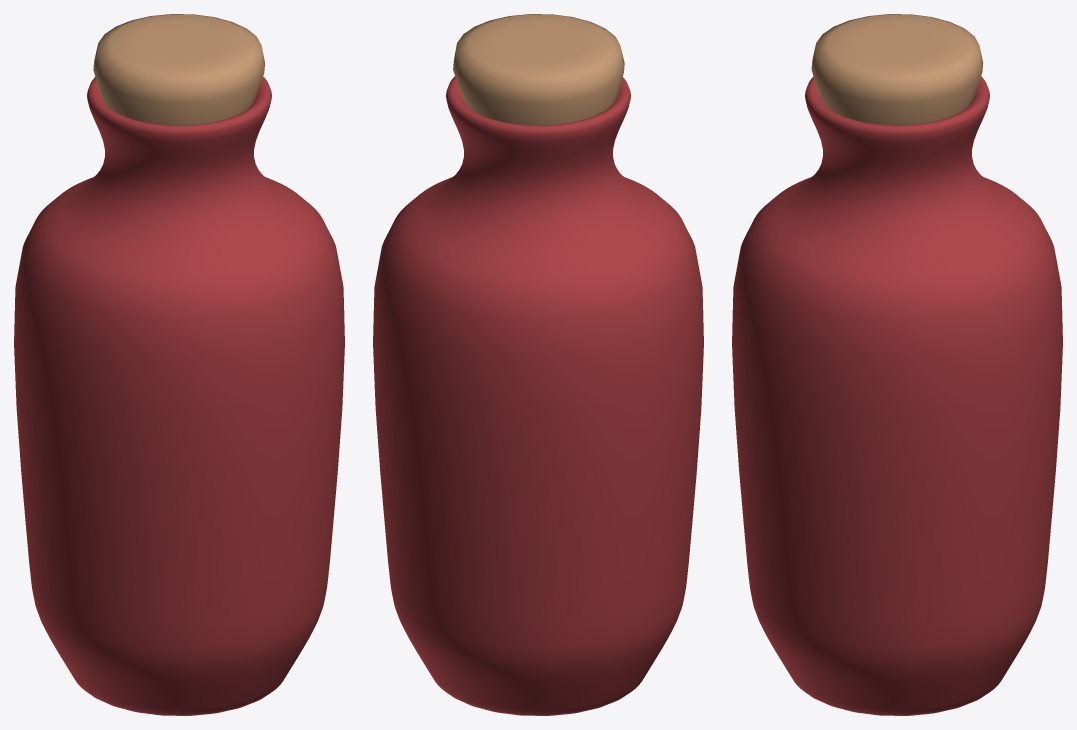
File: market-bottle5.fbx
3 views of the same model, side by side, from view 1: azimuth 30°, elevation 25°; view 2: azimuth 150°, elevation 25°; view 3: azimuth 270°, elevation 25° (orthographic).
Parts seen in each view (by area): view 1: Circle.060, Circle.061; view 2: Circle.060, Circle.061; view 3: Circle.060, Circle.061.
Boxes of the visible parts, left/top/right/bottom form: Circle.060: left=14, top=76, right=344, bottom=715; Circle.061: left=93, top=14, right=264, bottom=125; Circle.060: left=373, top=76, right=703, bottom=715; Circle.061: left=453, top=14, right=624, bottom=125; Circle.060: left=732, top=76, right=1062, bottom=715; Circle.061: left=811, top=14, right=983, bottom=125.
Size of the model in its own units: 22.85 by 48.05 by 22.85.
